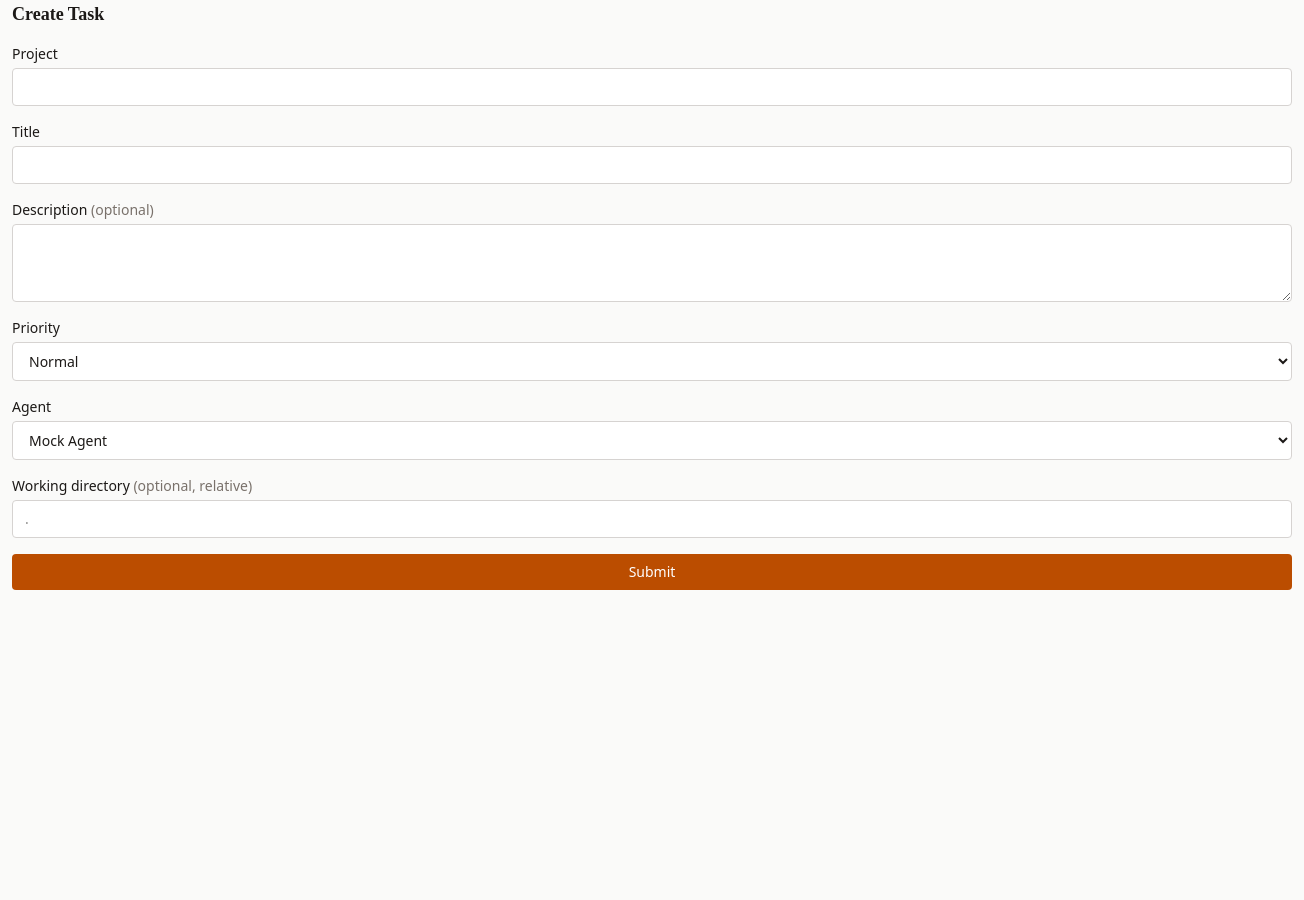
Scenario: TaskCreateForm › shows field-level errors for empty required fields on submit
Click the button "Submit": (652, 572) [12, 554, 1292, 590]
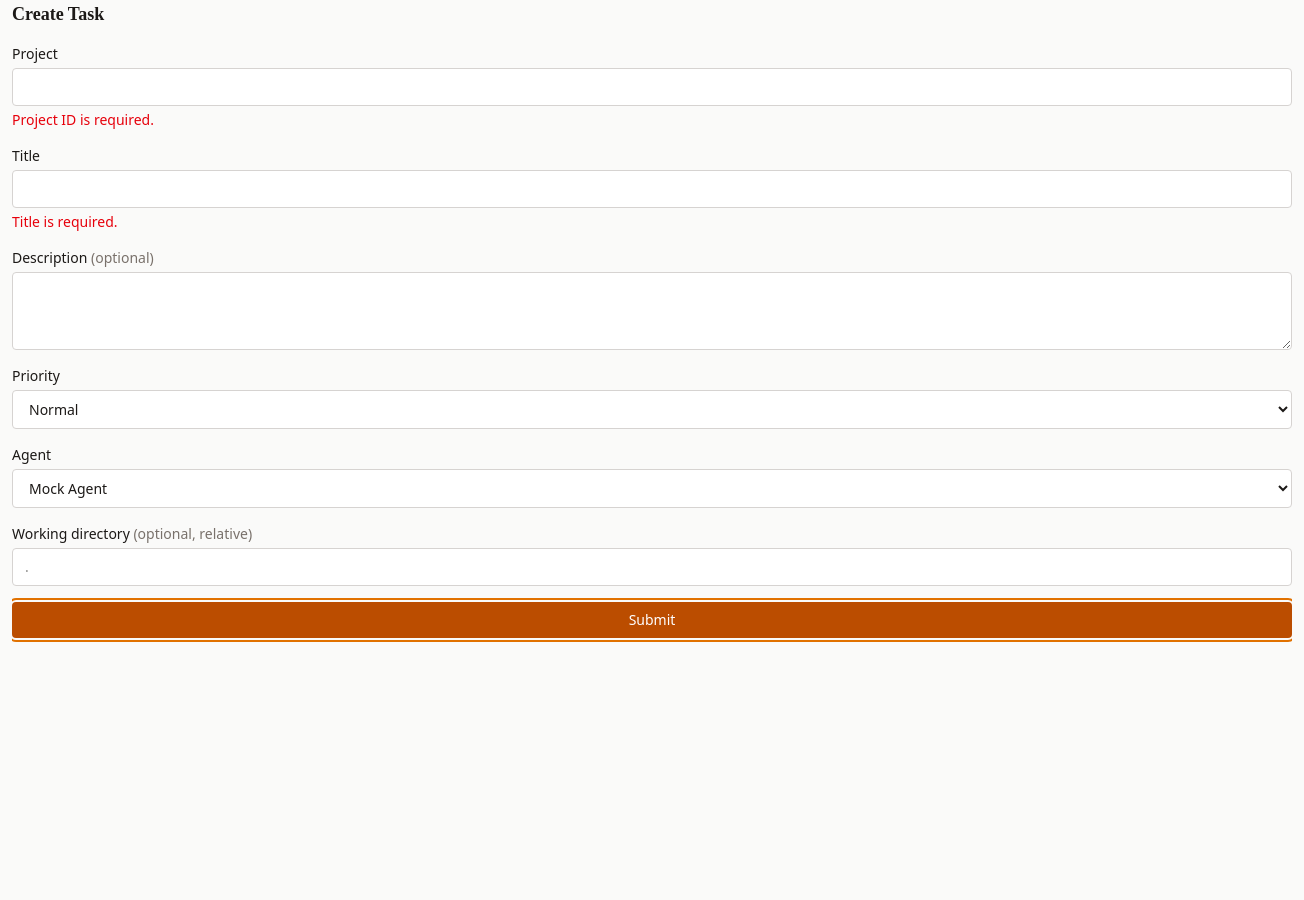
Expected: the text "Project ID is required." is shown, [12, 110, 154, 129]
Expected: the text "Title is required." is shown, [12, 212, 118, 231]
